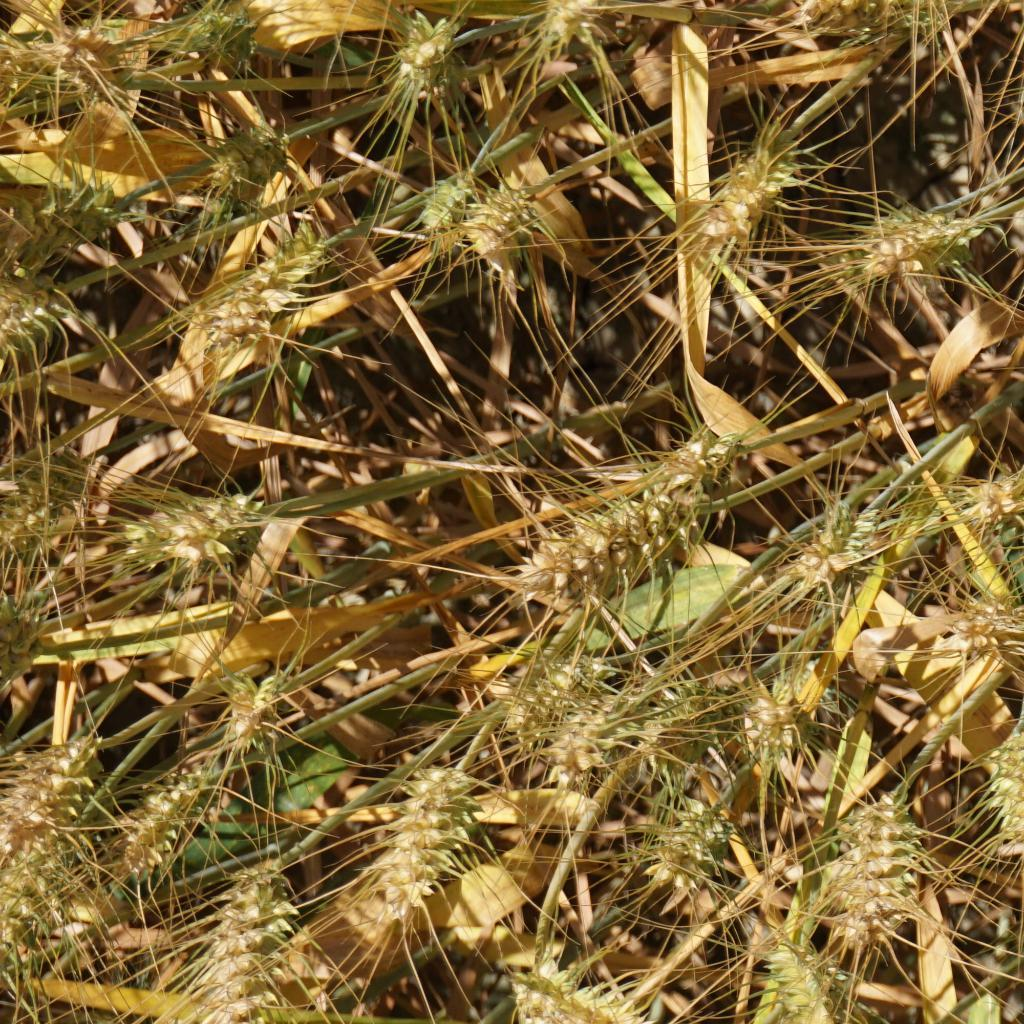0-0: (493, 474, 719, 619), (800, 771, 936, 948), (360, 747, 482, 939), (102, 470, 271, 579), (201, 863, 302, 1024), (691, 150, 813, 265), (854, 190, 984, 282), (448, 188, 574, 282), (0, 718, 87, 848), (751, 924, 861, 1024), (104, 780, 203, 882), (3, 176, 130, 252), (204, 244, 310, 335), (2, 857, 76, 983), (977, 711, 1024, 901), (515, 956, 640, 1024), (790, 0, 961, 45), (164, 190, 279, 254), (504, 648, 602, 723), (380, 7, 470, 88), (56, 26, 141, 110), (197, 125, 304, 188), (803, 494, 876, 586), (407, 166, 487, 246), (553, 687, 635, 765), (653, 681, 724, 765), (657, 809, 733, 885), (950, 593, 1024, 668), (13, 438, 60, 555), (0, 278, 79, 344), (214, 664, 279, 742), (178, 0, 258, 61), (743, 677, 805, 752), (658, 434, 739, 485), (0, 606, 47, 686), (972, 462, 1024, 532), (525, 0, 607, 34), (995, 0, 1024, 10)
